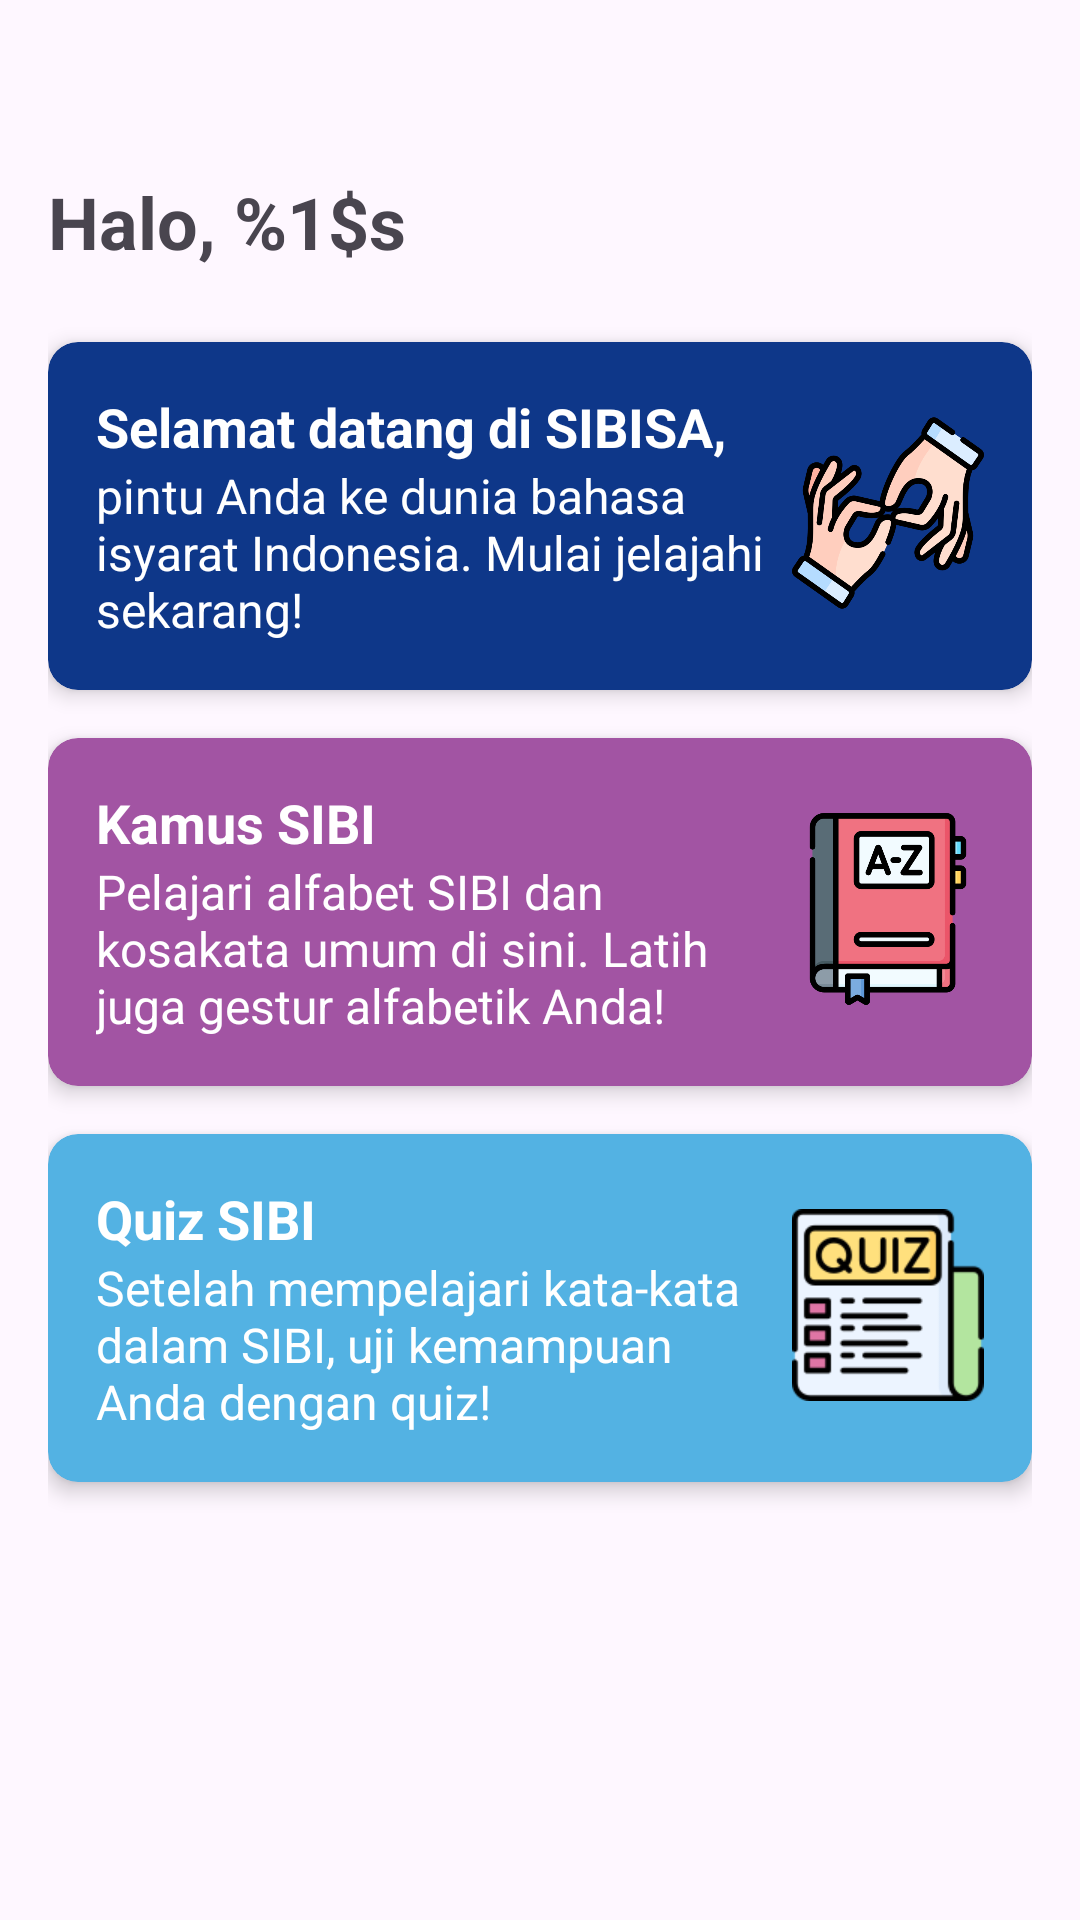

Icons on this 1080px x 1920px Android screen, each with its box as (x1=x1, y1=y1, x2=x2, y2=y2):
dictionary: (x1=810, y1=813, x2=966, y2=1005)
